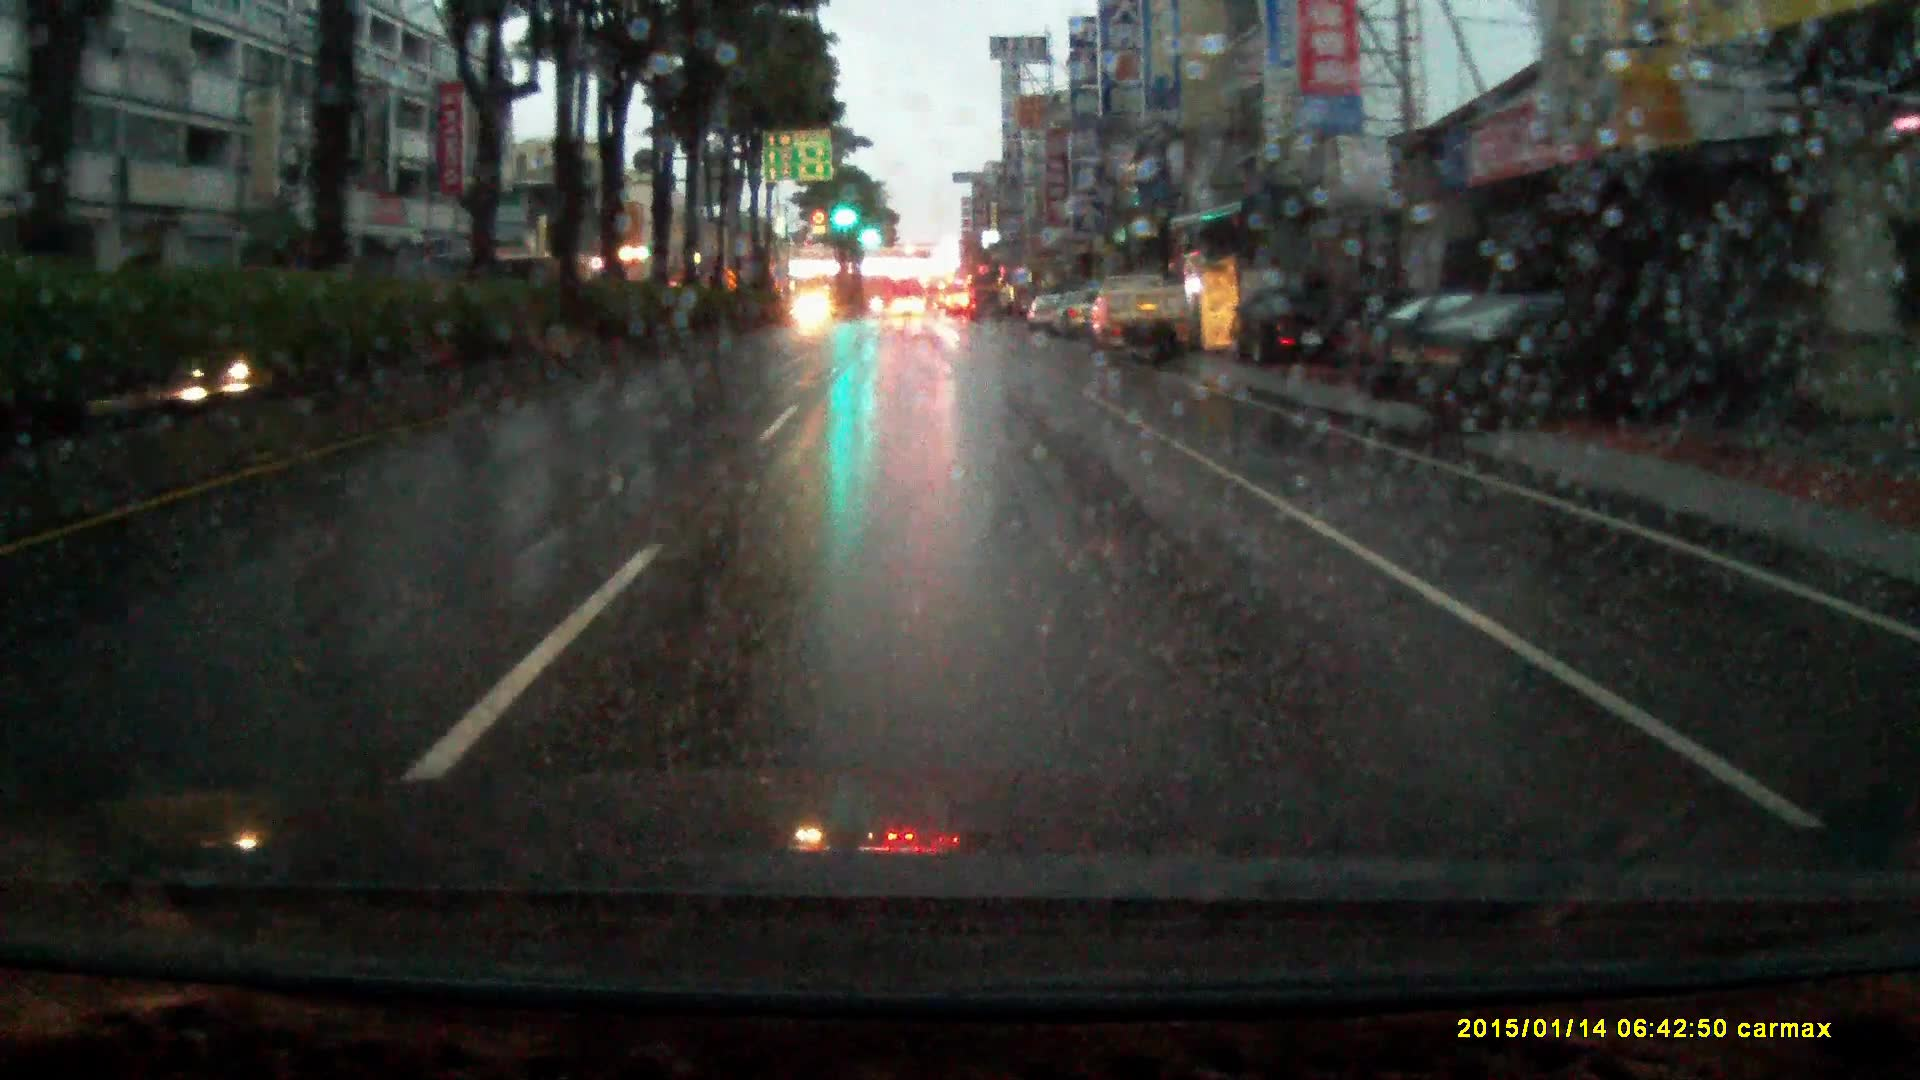vehicle: (1357, 298, 1776, 433), (1091, 272, 1192, 363), (1232, 290, 1346, 369), (1052, 289, 1100, 338), (793, 290, 836, 334), (1027, 293, 1065, 334), (891, 295, 927, 320), (926, 278, 947, 313)
